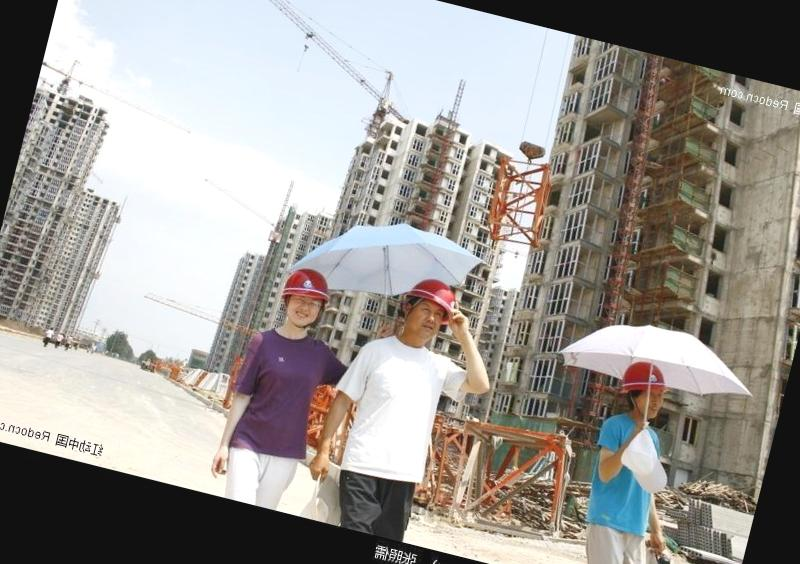helmet: (399, 273, 468, 333), (274, 260, 341, 319), (611, 355, 676, 413)
no_vest: (330, 317, 460, 476), (226, 314, 340, 458), (581, 398, 679, 534)
person: (318, 264, 492, 548), (197, 248, 360, 520), (558, 350, 698, 564)
